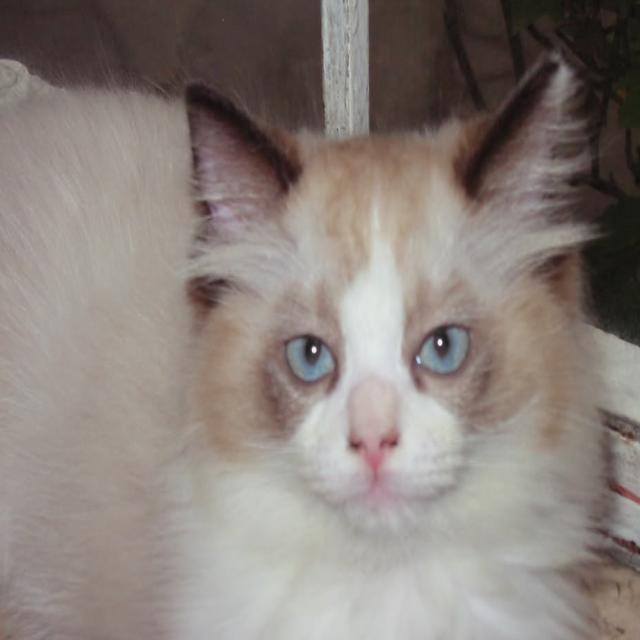Ragdoll: (0, 41, 607, 640)
